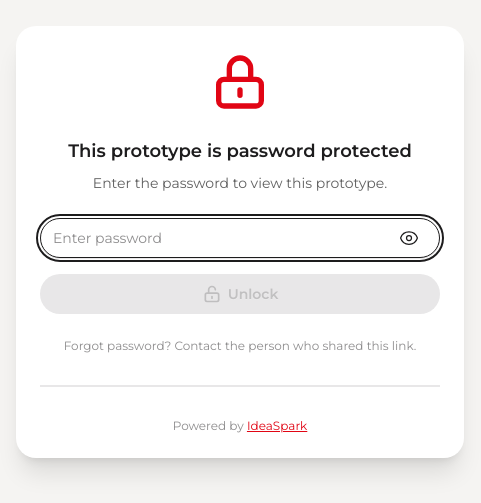
Test case: PasswordProtectedViewer › should show error on server error
In the password field with test id "verify-password-input": point(240, 238) [40, 218, 440, 258], type "somepassword"
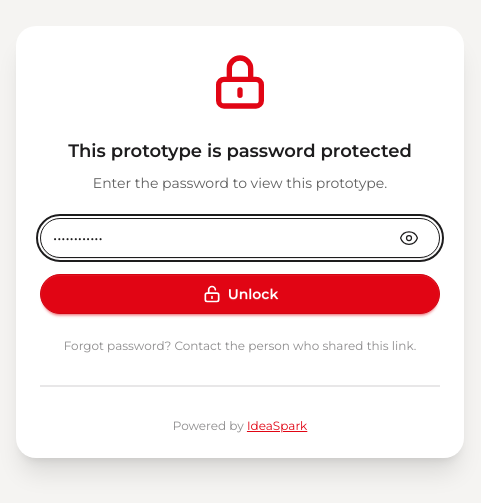
Click the button "Unlock": point(240, 294) [40, 274, 440, 314]
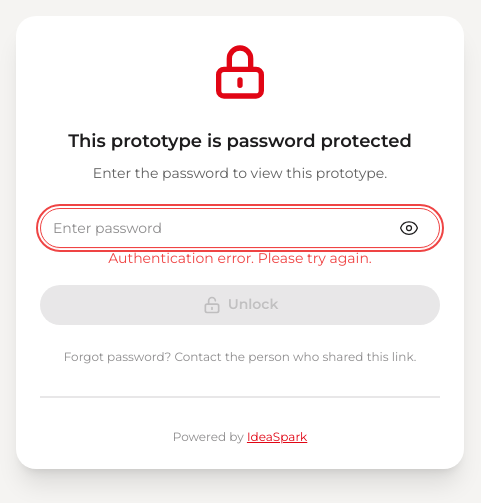
Expected: the text "Authentication error. Please try again." is shown, [108, 248, 372, 268]
